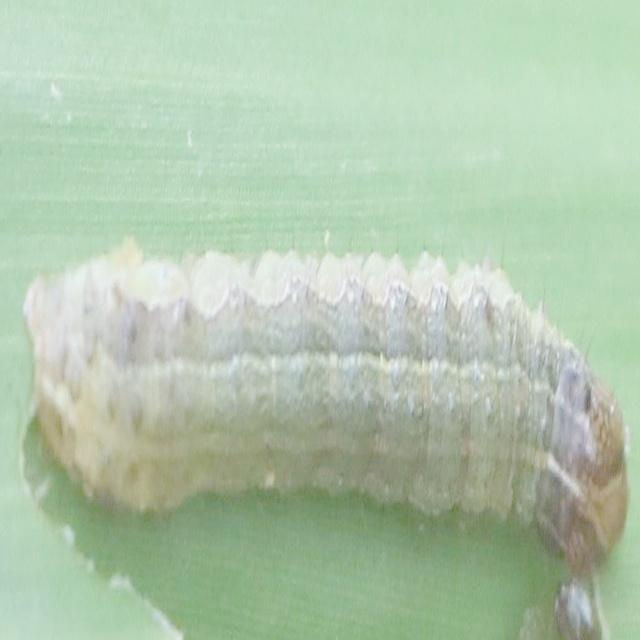gusano_cogollero: (20, 234, 628, 571)
